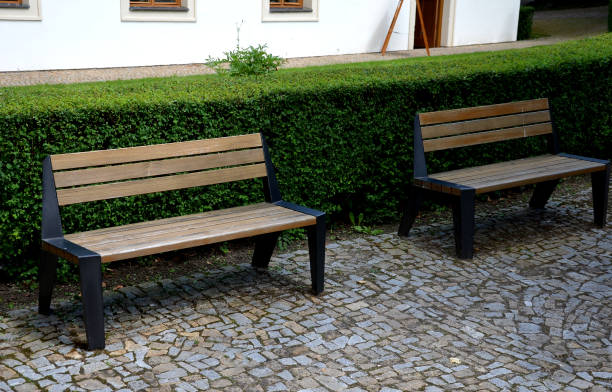bench: (29, 126, 329, 354), (399, 93, 607, 263)
